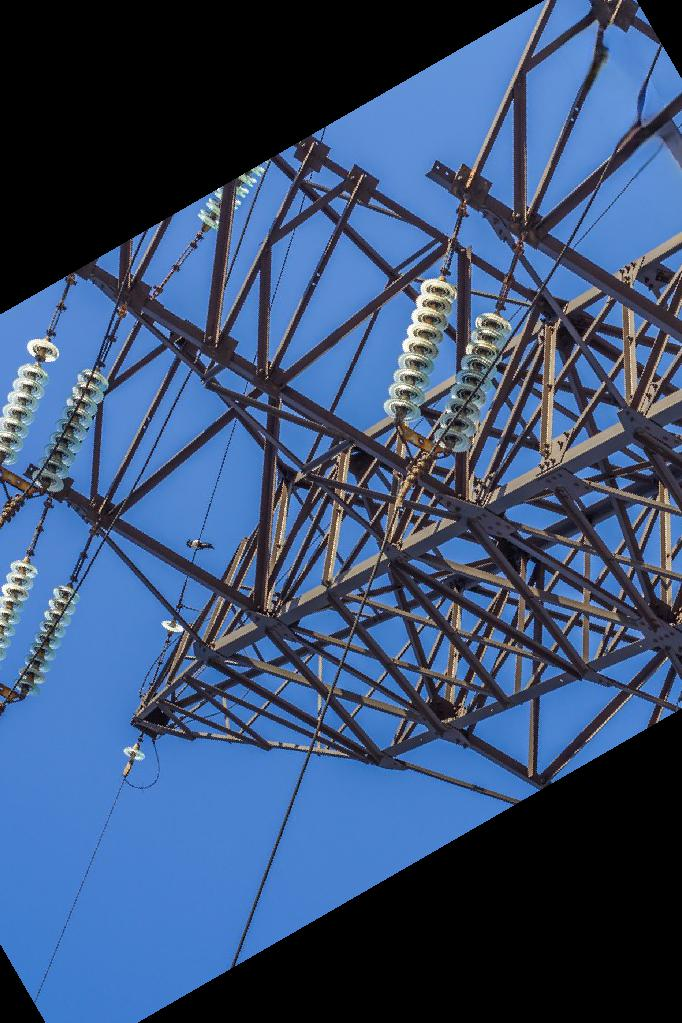insulator: (428, 310, 512, 461), (379, 275, 458, 425), (28, 363, 113, 501), (1, 336, 65, 474), (11, 580, 84, 699), (191, 155, 269, 235), (1, 557, 41, 666)
insulator_stringdrop: (17, 335, 62, 387)
